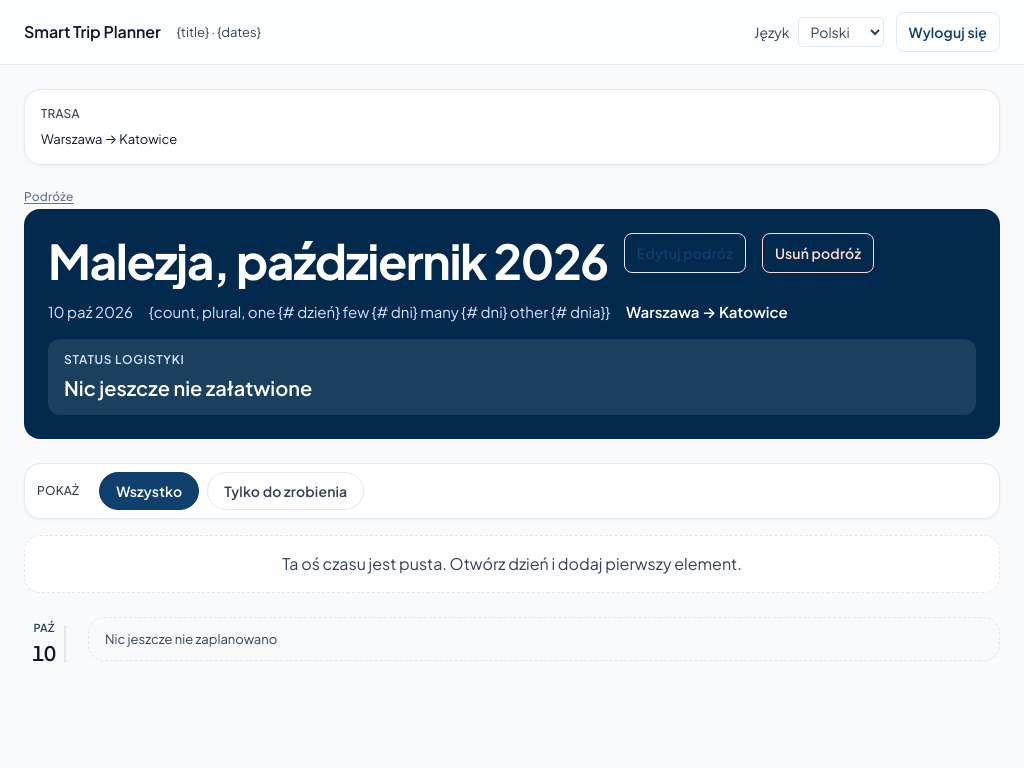
Test: deleting a trip › confirming deletes the trip and returns to the list
This screenshot has width=1024, height=768.
Check: the heading "Malezja, październik 2026" is shown, box [48,233,608,289]
What coordinates should you click on to do the following:
click the button "Usuń podróż"
I would click on:
 (818, 253)
Its box is [762,233,874,273].
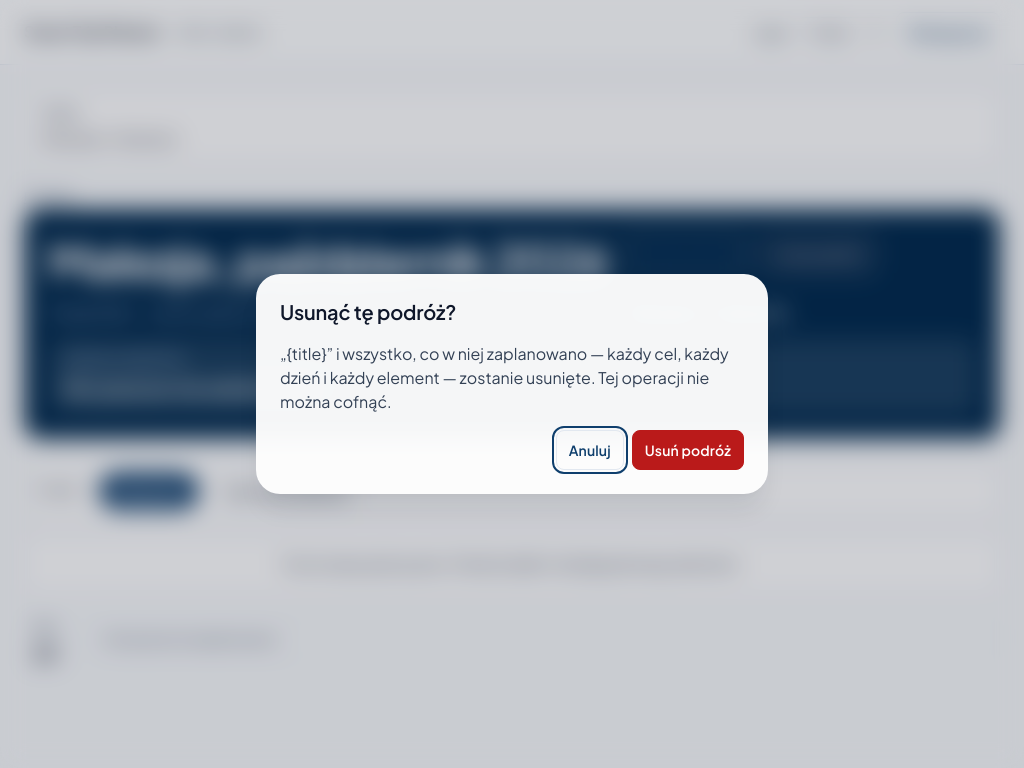
What coordinates should you click on to do the following:
click the button "Usuń podróż"
I would click on:
 (688, 450)
Its box is [632,430,744,470].
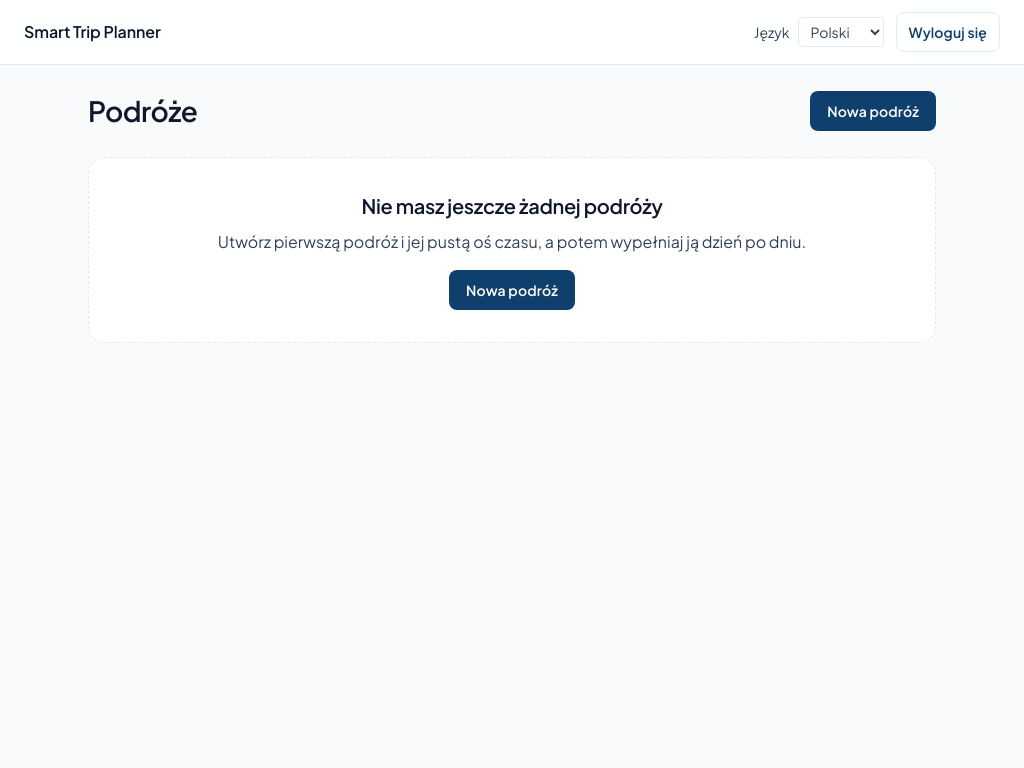
Check: the heading "Nie masz jeszcze żadnej podróży" is shown, box [362,193,663,218]
